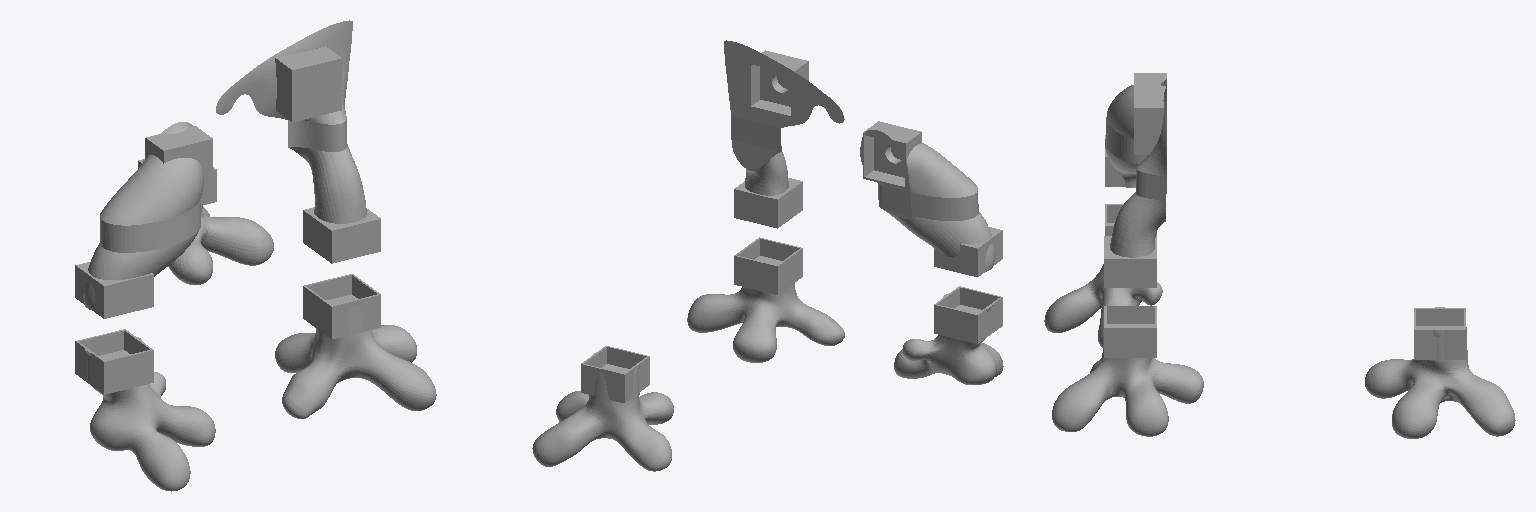
The robot description file, URDF, robot "FrogBot2_top-FrogBot2-z-5_bottom-FrogBot2-z-5":
<?xml version="1.0" ?>
<robot name="FrogBot2_top-FrogBot2-z-5_bottom-FrogBot2-z-5">

<material name="pla_5_percent_infill">
  <color rgba="0.700 0.700 0.700 1.000"/>
</material>

<link name="base_link">
  <inertial>
    <origin xyz="0 0 0" rpy="0 0 0"/>
    <mass value="1.3341577719423"/>
    <inertia ixx="0.0046797925109551535" iyy="0.011134478382956134" izz="0.010477176548232365" ixy="0.00012495104989682066" iyz="8.213962567094231e-05" ixz="-0.002474445058077273"/>
  </inertial>
  <visual>
    <origin xyz="0 0 0" rpy="0 0 0"/>
    <geometry>
      <mesh filename="simple_meshes/base_link.stl" scale="0.001 0.001 0.001"/>
    </geometry>
    <material name="pla_5_percent_infill"/>
  </visual>
  <collision>
    <origin xyz="0 0 0" rpy="0 0 0"/>
    <geometry>
      <mesh filename="simple_meshes/base_link.stl" scale="0.001 0.001 0.001"/>
    </geometry>
  </collision>
</link>

<link name="body_1_0_1">
  <inertial>
    <origin xyz="-0.053395 -0.09218 -0.023663" rpy="0 0 0"/>
    <mass value="0.061145601842221176"/>
    <inertia ixx="0.00010089222267031816" iyy="0.00010426133522549658" izz="2.008938681837165e-05" ixy="-1.9811749760320022e-07" iyz="6.319065858359854e-06" ixz="9.282861372318942e-06"/>
  </inertial>
  <visual>
    <origin xyz="-0.053395 -0.09218 -0.023663" rpy="0 0 0"/>
    <geometry>
      <mesh filename="simple_meshes/body_1_0_1.stl" scale="0.001 0.001 0.001"/>
    </geometry>
    <material name="pla_5_percent_infill"/>
  </visual>
  <collision>
    <origin xyz="-0.053395 -0.09218 -0.023663" rpy="0 0 0"/>
    <geometry>
      <mesh filename="simple_meshes/body_1_0_1.stl" scale="0.001 0.001 0.001"/>
    </geometry>
  </collision>
</link>

<link name="body_1_1_1">
  <inertial>
    <origin xyz="0.095032 -0.09218 0.005345" rpy="0 0 0"/>
    <mass value="0.12952115804307776"/>
    <inertia ixx="0.00011767265026497997" iyy="0.00019494678327876052" izz="0.00012445209383147617" ixy="5.688983767374641e-06" iyz="6.4745242260741366e-06" ixz="-5.0134332135228464e-05"/>
  </inertial>
  <visual>
    <origin xyz="0.095032 -0.09218 0.005345" rpy="0 0 0"/>
    <geometry>
      <mesh filename="simple_meshes/body_1_1_1.stl" scale="0.001 0.001 0.001"/>
    </geometry>
    <material name="pla_5_percent_infill"/>
  </visual>
  <collision>
    <origin xyz="0.095032 -0.09218 0.005345" rpy="0 0 0"/>
    <geometry>
      <mesh filename="simple_meshes/body_1_1_1.stl" scale="0.001 0.001 0.001"/>
    </geometry>
  </collision>
</link>

<link name="body_1_2_1">
  <inertial>
    <origin xyz="-0.041549 0.09218 -0.043945" rpy="0 0 0"/>
    <mass value="0.06773104005778678"/>
    <inertia ixx="0.00016620996885996107" iyy="0.0001712587428822682" izz="3.123359690115446e-05" ixy="1.4552269847760597e-06" iyz="-2.1417756894625997e-05" ixz="2.2081970891908964e-05"/>
  </inertial>
  <visual>
    <origin xyz="-0.041549 0.09218 -0.043945" rpy="0 0 0"/>
    <geometry>
      <mesh filename="simple_meshes/body_1_2_1.stl" scale="0.001 0.001 0.001"/>
    </geometry>
    <material name="pla_5_percent_infill"/>
  </visual>
  <collision>
    <origin xyz="-0.041549 0.09218 -0.043945" rpy="0 0 0"/>
    <geometry>
      <mesh filename="simple_meshes/body_1_2_1.stl" scale="0.001 0.001 0.001"/>
    </geometry>
  </collision>
</link>

<link name="body_1_3_1">
  <inertial>
    <origin xyz="0.087142 0.09218 -0.003397" rpy="0 0 0"/>
    <mass value="0.13282203207081278"/>
    <inertia ixx="0.00012141631223817678" iyy="0.00019699678622648285" izz="0.00012577560194152425" ixy="-9.655762653449414e-06" iyz="-6.587882623807872e-06" ixz="-5.037200384959081e-05"/>
  </inertial>
  <visual>
    <origin xyz="0.087142 0.09218 -0.003397" rpy="0 0 0"/>
    <geometry>
      <mesh filename="simple_meshes/body_1_3_1.stl" scale="0.001 0.001 0.001"/>
    </geometry>
    <material name="pla_5_percent_infill"/>
  </visual>
  <collision>
    <origin xyz="0.087142 0.09218 -0.003397" rpy="0 0 0"/>
    <geometry>
      <mesh filename="simple_meshes/body_1_3_1.stl" scale="0.001 0.001 0.001"/>
    </geometry>
  </collision>
</link>

<link name="body_2_0_1">
  <inertial>
    <origin xyz="-0.065654 -0.139685 0.119558" rpy="0 0 0"/>
    <mass value="0.11418464770764032"/>
    <inertia ixx="0.0001343610455567584" iyy="0.00014695784910162286" izz="0.0001933330960696561" ixy="-1.041240091163441e-05" iyz="5.046898420075618e-06" ixz="9.281127604631161e-06"/>
  </inertial>
  <visual>
    <origin xyz="-0.065654 -0.139685 0.119558" rpy="0 0 0"/>
    <geometry>
      <mesh filename="simple_meshes/body_2_0_1.stl" scale="0.001 0.001 0.001"/>
    </geometry>
    <material name="pla_5_percent_infill"/>
  </visual>
  <collision>
    <origin xyz="-0.065654 -0.139685 0.119558" rpy="0 0 0"/>
    <geometry>
      <mesh filename="simple_meshes/body_2_0_1.stl" scale="0.001 0.001 0.001"/>
    </geometry>
  </collision>
</link>

<link name="body_2_1_1">
  <inertial>
    <origin xyz="0.15751 -0.143533 0.119558" rpy="0 0 0"/>
    <mass value="0.0906803586483837"/>
    <inertia ixx="9.299615239661413e-05" iyy="0.00010747597836518498" izz="9.979829297225833e-05" ixy="-1.478199965399777e-06" iyz="2.502079319709888e-05" ixz="1.679644712637143e-05"/>
  </inertial>
  <visual>
    <origin xyz="0.15751 -0.143533 0.119558" rpy="0 0 0"/>
    <geometry>
      <mesh filename="simple_meshes/body_2_1_1.stl" scale="0.001 0.001 0.001"/>
    </geometry>
    <material name="pla_5_percent_infill"/>
  </visual>
  <collision>
    <origin xyz="0.15751 -0.143533 0.119558" rpy="0 0 0"/>
    <geometry>
      <mesh filename="simple_meshes/body_2_1_1.stl" scale="0.001 0.001 0.001"/>
    </geometry>
  </collision>
</link>

<link name="body_2_2_1">
  <inertial>
    <origin xyz="-0.061161 0.145934 0.119558" rpy="0 0 0"/>
    <mass value="0.1115539289904397"/>
    <inertia ixx="0.00013369244448612969" iyy="0.0001431112704540962" izz="0.00019304950074538075" ixy="1.1711972177792665e-05" iyz="-3.6654927983333085e-06" ixz="6.483245471606853e-06"/>
  </inertial>
  <visual>
    <origin xyz="-0.061161 0.145934 0.119558" rpy="0 0 0"/>
    <geometry>
      <mesh filename="simple_meshes/body_2_2_1.stl" scale="0.001 0.001 0.001"/>
    </geometry>
    <material name="pla_5_percent_infill"/>
  </visual>
  <collision>
    <origin xyz="-0.061161 0.145934 0.119558" rpy="0 0 0"/>
    <geometry>
      <mesh filename="simple_meshes/body_2_2_1.stl" scale="0.001 0.001 0.001"/>
    </geometry>
  </collision>
</link>

<link name="body_2_3_1">
  <inertial>
    <origin xyz="0.160089 0.145768 0.119558" rpy="0 0 0"/>
    <mass value="0.08573300184523738"/>
    <inertia ixx="9.37198823282746e-05" iyy="0.00010304186645295269" izz="9.477648382622255e-05" ixy="8.353303206692832e-07" iyz="-2.6076402740255952e-05" ixz="2.1370074277879143e-05"/>
  </inertial>
  <visual>
    <origin xyz="0.160089 0.145768 0.119558" rpy="0 0 0"/>
    <geometry>
      <mesh filename="simple_meshes/body_2_3_1.stl" scale="0.001 0.001 0.001"/>
    </geometry>
    <material name="pla_5_percent_infill"/>
  </visual>
  <collision>
    <origin xyz="0.160089 0.145768 0.119558" rpy="0 0 0"/>
    <geometry>
      <mesh filename="simple_meshes/body_2_3_1.stl" scale="0.001 0.001 0.001"/>
    </geometry>
  </collision>
</link>

<joint name="joint_1_0" type="revolute">
  <origin xyz="0.053395 0.09218 0.023663" rpy="0 0 0"/>
  <parent link="base_link"/>
  <child link="body_1_0_1"/>
  <axis xyz="0.0 1.0 0.0"/>
  <limit upper="1.2" lower="-1.2" effort="3.8" velocity="5.4"/>
</joint>
<transmission name="joint_1_0_tran">
  <type>transmission_interface/SimpleTransmission</type>
  <joint name="joint_1_0">
    <hardwareInterface>PositionJointInterface</hardwareInterface>
  </joint>
  <actuator name="joint_1_0_actr">
    <hardwareInterface>PositionJointInterface</hardwareInterface>
    <mechanicalReduction>1</mechanicalReduction>
  </actuator>
</transmission>

<joint name="joint_1_1" type="revolute">
  <origin xyz="-0.095032 0.09218 -0.005345" rpy="0 0 0"/>
  <parent link="base_link"/>
  <child link="body_1_1_1"/>
  <axis xyz="0.0 1.0 0.0"/>
  <limit upper="1.2" lower="-1.2" effort="3.8" velocity="5.4"/>
</joint>
<transmission name="joint_1_1_tran">
  <type>transmission_interface/SimpleTransmission</type>
  <joint name="joint_1_1">
    <hardwareInterface>PositionJointInterface</hardwareInterface>
  </joint>
  <actuator name="joint_1_1_actr">
    <hardwareInterface>PositionJointInterface</hardwareInterface>
    <mechanicalReduction>1</mechanicalReduction>
  </actuator>
</transmission>

<joint name="joint_1_2" type="revolute">
  <origin xyz="0.041549 -0.09218 0.043945" rpy="0 0 0"/>
  <parent link="base_link"/>
  <child link="body_1_2_1"/>
  <axis xyz="0.0 1.0 0.0"/>
  <limit upper="1.2" lower="-1.2" effort="3.8" velocity="5.4"/>
</joint>
<transmission name="joint_1_2_tran">
  <type>transmission_interface/SimpleTransmission</type>
  <joint name="joint_1_2">
    <hardwareInterface>PositionJointInterface</hardwareInterface>
  </joint>
  <actuator name="joint_1_2_actr">
    <hardwareInterface>PositionJointInterface</hardwareInterface>
    <mechanicalReduction>1</mechanicalReduction>
  </actuator>
</transmission>

<joint name="joint_1_3" type="revolute">
  <origin xyz="-0.087142 -0.09218 0.003397" rpy="0 0 0"/>
  <parent link="base_link"/>
  <child link="body_1_3_1"/>
  <axis xyz="0.0 1.0 0.0"/>
  <limit upper="1.2" lower="-1.2" effort="3.8" velocity="5.4"/>
</joint>
<transmission name="joint_1_3_tran">
  <type>transmission_interface/SimpleTransmission</type>
  <joint name="joint_1_3">
    <hardwareInterface>PositionJointInterface</hardwareInterface>
  </joint>
  <actuator name="joint_1_3_actr">
    <hardwareInterface>PositionJointInterface</hardwareInterface>
    <mechanicalReduction>1</mechanicalReduction>
  </actuator>
</transmission>

<joint name="joint_2_0" type="revolute">
  <origin xyz="0.012259 0.047505 -0.143221" rpy="0 0 0"/>
  <parent link="body_1_0_1"/>
  <child link="body_2_0_1"/>
  <axis xyz="0.0 0.0 1.0"/>
  <limit upper="1.2" lower="-1.2" effort="3.8" velocity="5.4"/>
</joint>
<transmission name="joint_2_0_tran">
  <type>transmission_interface/SimpleTransmission</type>
  <joint name="joint_2_0">
    <hardwareInterface>PositionJointInterface</hardwareInterface>
  </joint>
  <actuator name="joint_2_0_actr">
    <hardwareInterface>PositionJointInterface</hardwareInterface>
    <mechanicalReduction>1</mechanicalReduction>
  </actuator>
</transmission>

<joint name="joint_2_1" type="revolute">
  <origin xyz="-0.062478 0.051353 -0.114213" rpy="0 0 0"/>
  <parent link="body_1_1_1"/>
  <child link="body_2_1_1"/>
  <axis xyz="0.0 0.0 1.0"/>
  <limit upper="1.2" lower="-1.2" effort="3.8" velocity="5.4"/>
</joint>
<transmission name="joint_2_1_tran">
  <type>transmission_interface/SimpleTransmission</type>
  <joint name="joint_2_1">
    <hardwareInterface>PositionJointInterface</hardwareInterface>
  </joint>
  <actuator name="joint_2_1_actr">
    <hardwareInterface>PositionJointInterface</hardwareInterface>
    <mechanicalReduction>1</mechanicalReduction>
  </actuator>
</transmission>

<joint name="joint_2_2" type="revolute">
  <origin xyz="0.019612 -0.053754 -0.163503" rpy="0 0 0"/>
  <parent link="body_1_2_1"/>
  <child link="body_2_2_1"/>
  <axis xyz="0.0 0.0 1.0"/>
  <limit upper="1.2" lower="-1.2" effort="3.8" velocity="5.4"/>
</joint>
<transmission name="joint_2_2_tran">
  <type>transmission_interface/SimpleTransmission</type>
  <joint name="joint_2_2">
    <hardwareInterface>PositionJointInterface</hardwareInterface>
  </joint>
  <actuator name="joint_2_2_actr">
    <hardwareInterface>PositionJointInterface</hardwareInterface>
    <mechanicalReduction>1</mechanicalReduction>
  </actuator>
</transmission>

<joint name="joint_2_3" type="revolute">
  <origin xyz="-0.072947 -0.053588 -0.122955" rpy="0 0 0"/>
  <parent link="body_1_3_1"/>
  <child link="body_2_3_1"/>
  <axis xyz="0.0 0.0 1.0"/>
  <limit upper="1.2" lower="-1.2" effort="3.8" velocity="5.4"/>
</joint>
<transmission name="joint_2_3_tran">
  <type>transmission_interface/SimpleTransmission</type>
  <joint name="joint_2_3">
    <hardwareInterface>PositionJointInterface</hardwareInterface>
  </joint>
  <actuator name="joint_2_3_actr">
    <hardwareInterface>PositionJointInterface</hardwareInterface>
    <mechanicalReduction>1</mechanicalReduction>
  </actuator>
</transmission>

</robot>

--- What the picture shows (computed from the rendered views, not written in the file) ---
Views: 3 orthographic renders of the robot side by side, from view 1: azimuth 30°, elevation 25°; view 2: azimuth 150°, elevation 25°; view 3: azimuth 270°, elevation 25°.
Model FrogBot2_top-FrogBot2-z-5_bottom-FrogBot2-z-5 with 9 links and 8 joints (8 revolute), rooted at base_link, posed all joints at 0.
Visible links, largest first — view 1: body_1_2_1, body_1_3_1, body_2_2_1, body_2_3_1, body_2_0_1; view 2: body_1_2_1, body_1_3_1, body_2_0_1, body_2_2_1, body_2_3_1; view 3: body_2_0_1, body_2_2_1, body_1_2_1, body_2_3_1, body_1_3_1.
Boxes of the visible links, x1,y1,x2,y2 form: body_1_2_1: [216, 20, 380, 263]; body_1_3_1: [75, 122, 212, 318]; body_2_2_1: [275, 274, 436, 418]; body_2_3_1: [75, 329, 215, 491]; body_2_0_1: [138, 159, 273, 284]; body_1_2_1: [724, 40, 844, 228]; body_1_3_1: [860, 121, 1002, 276]; body_2_0_1: [532, 346, 673, 471]; body_2_2_1: [687, 237, 844, 362]; body_2_3_1: [894, 286, 1003, 384]; body_2_0_1: [1365, 307, 1515, 438]; body_2_2_1: [1052, 306, 1203, 436]; body_1_2_1: [1104, 85, 1166, 287]; body_2_3_1: [1044, 204, 1162, 347]; body_1_3_1: [1105, 73, 1166, 187].
Bounding box of the posed robot: 0.3293 × 0.435 × 0.3411 m (x, y, z).
Meshes: 9 distinct files referenced, 5 mesh visuals loaded (5 binary STL); not drawn: 4 (reference not matched to a file when rendering).